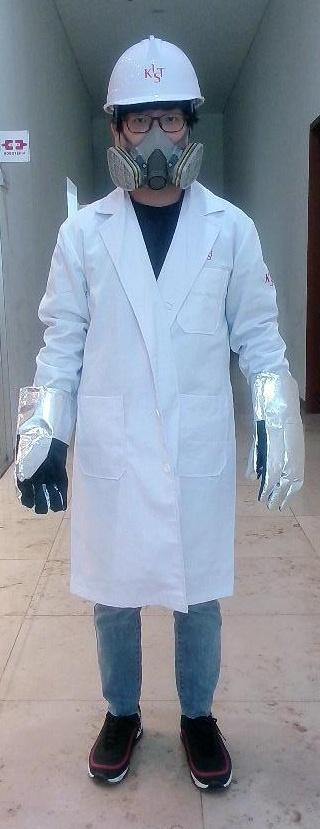lab_coat: (63, 192, 245, 599)
